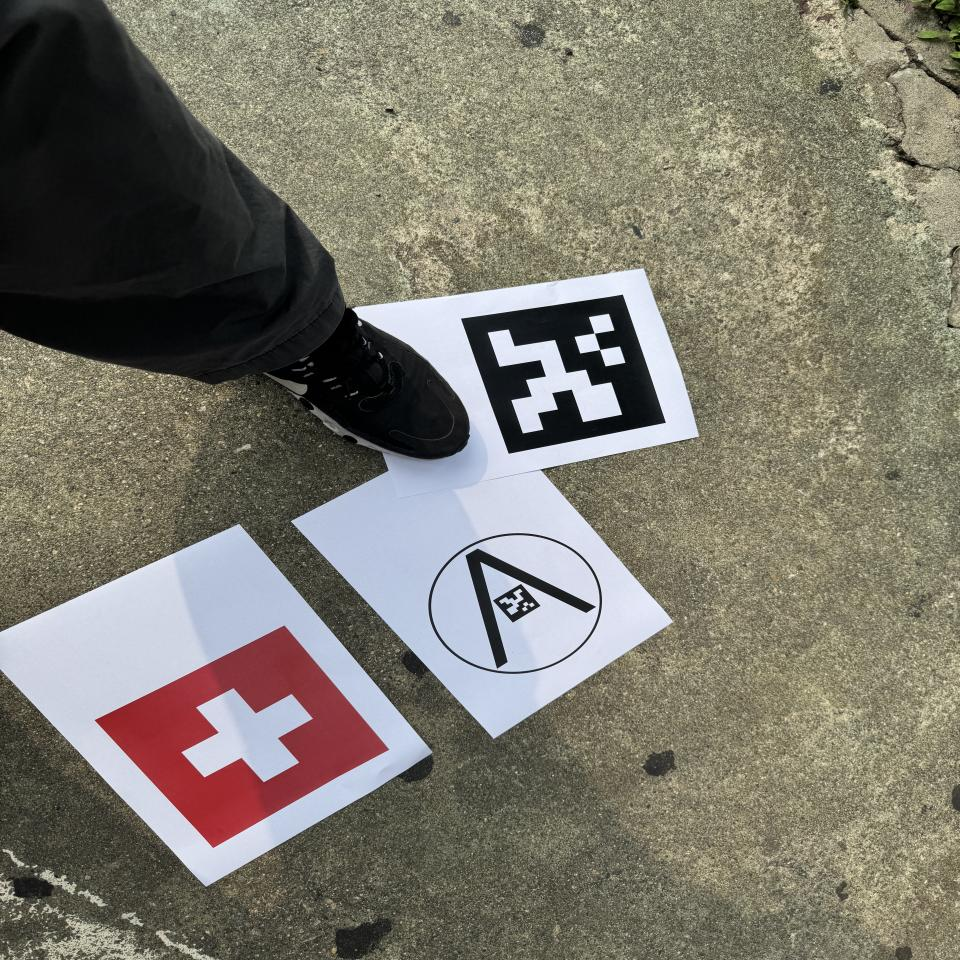ArUro mark: (462, 286, 683, 458)
rescue point: (81, 609, 415, 862)
vertiport: (414, 526, 618, 691)
